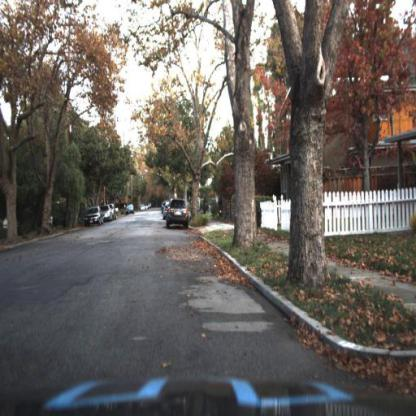car: (166, 196, 193, 233), (84, 205, 104, 228), (162, 202, 173, 229), (103, 205, 111, 226), (127, 201, 137, 215)
